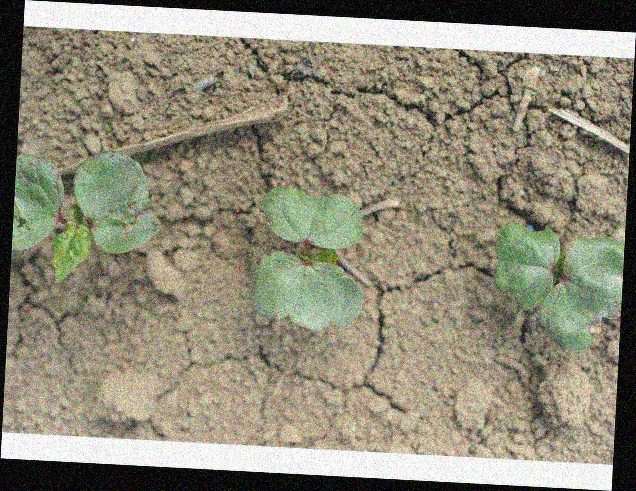cotton: (13, 149, 161, 285), (250, 188, 367, 329), (493, 225, 621, 349)
